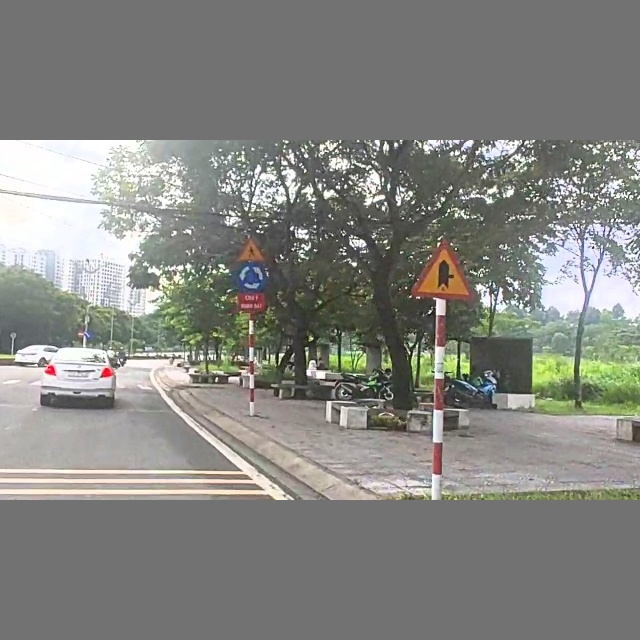P.102: (77, 329, 84, 337)
R.302a: (84, 330, 93, 339)
R.303: (235, 263, 270, 291)
W.207: (409, 237, 477, 303)
W.224: (235, 236, 269, 263)
